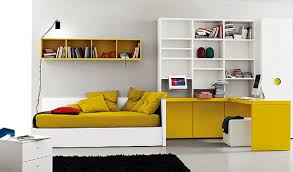Sofa: (31, 88, 170, 149)
